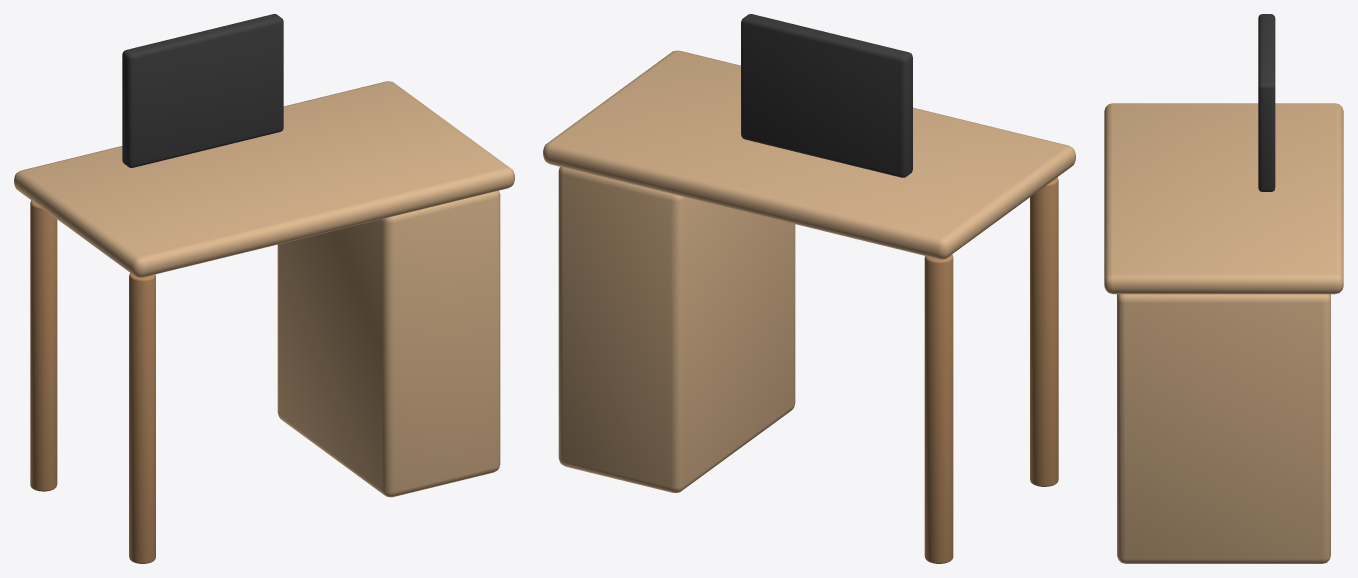
The model's file is desk.glb.
3 views of the same model, side by side, from view 1: azimuth 30°, elevation 25°; view 2: azimuth 150°, elevation 25°; view 3: azimuth 270°, elevation 25° (orthographic). The views are drawn at different scales.
Visible parts, largest first — view 1: desk; view 2: desk; view 3: desk.
Boxes of the visible parts, box(x1,y1,x2,y2) form: desk: box(14, 14, 514, 563); desk: box(543, 14, 1075, 563); desk: box(1104, 14, 1343, 563).
Size of the model in its own units: 0.98 by 1.08 by 0.56.
